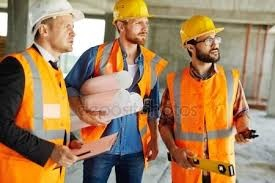white: (25, 1, 81, 57)
yellow: (177, 14, 223, 66), (110, 1, 153, 46)
